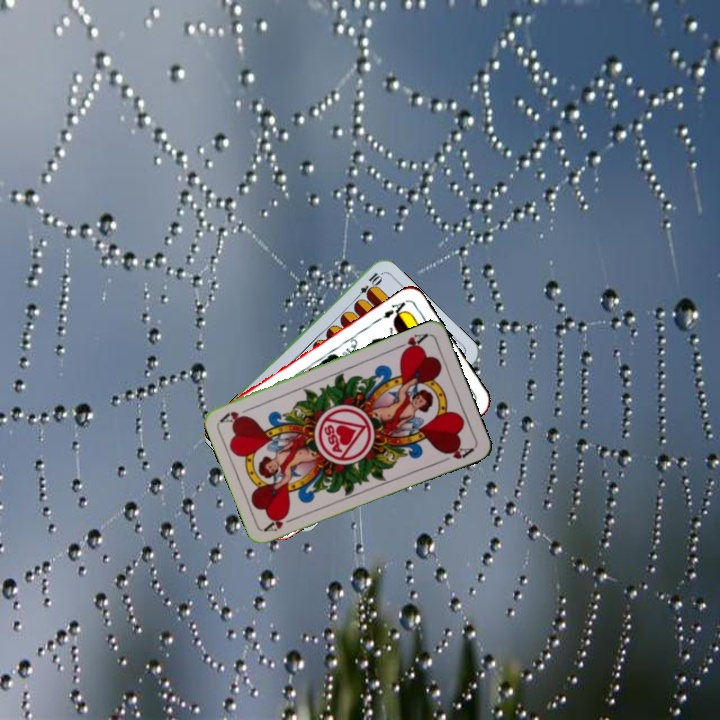E10: (351, 268, 384, 303)
EA: (379, 296, 410, 321)
HA: (392, 329, 431, 357), (261, 510, 300, 534)
